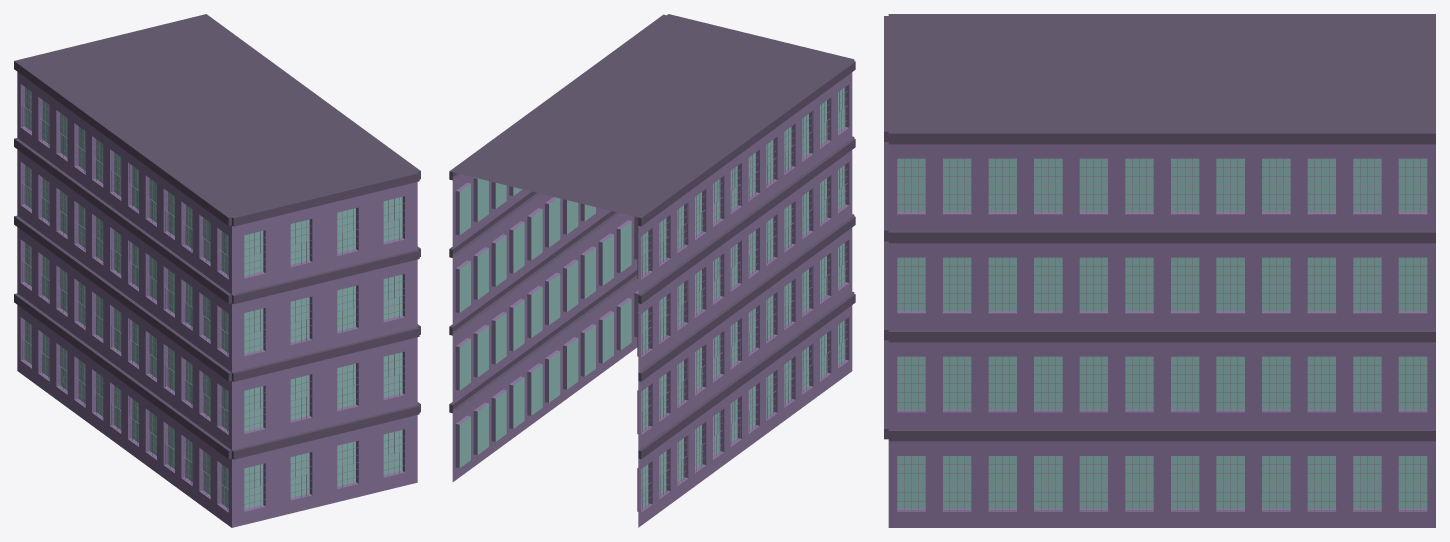
File: BuildingE_Refined.fbx
3 views of the same model, side by side, from view 1: azimuth 30°, elevation 25°; view 2: azimuth 150°, elevation 25°; view 3: azimuth 270°, elevation 25° (orthographic). The views are drawn at different scales.
Parts seen in each view (by area): view 1: Building_5; view 2: Building_5; view 3: Building_5.
Boxes of the visible parts, x1,y1,x2,y2 form: Building_5: (14,14,420,527); Building_5: (449,14,855,527); Building_5: (884,14,1435,527).
Size of the model in its own units: 1243 by 1918 by 2420.
